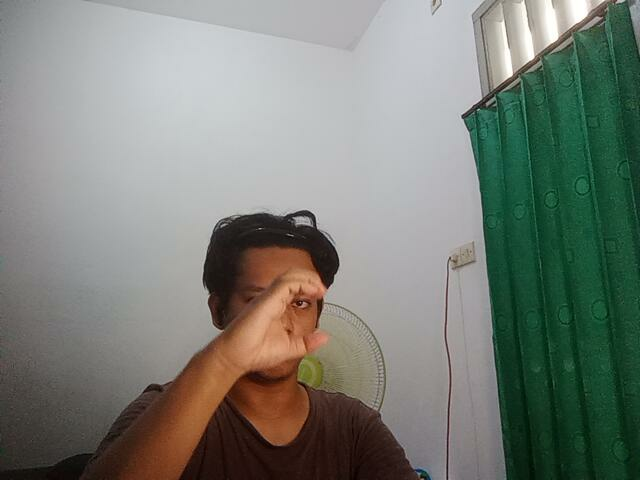C: (225, 263, 335, 376)
